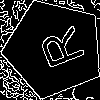R: (29, 24, 86, 75)
